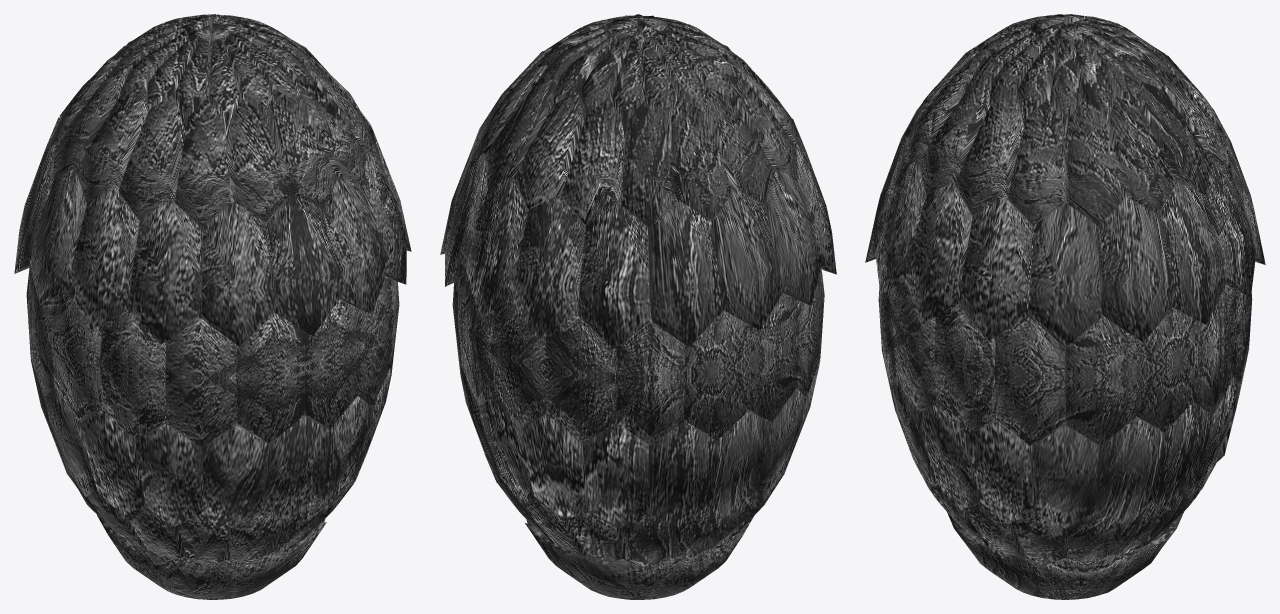
File: dragon_egg.FBX
3 renders of one model, left to right at view 1: azimuth 30°, elevation 25°; view 2: azimuth 150°, elevation 25°; view 3: azimuth 270°, elevation 25°, orthographic.
Visible parts, largest first — view 1: Dragon Egg; view 2: Dragon Egg; view 3: Dragon Egg.
Part boxes in pixels (x1,y1,x2,y2): Dragon Egg: [14, 14, 411, 599]; Dragon Egg: [440, 14, 836, 599]; Dragon Egg: [865, 14, 1265, 599].
Bounding box in the file's own units: 151 × 240 × 151.
Materials: 1 (1 with a texture image).
